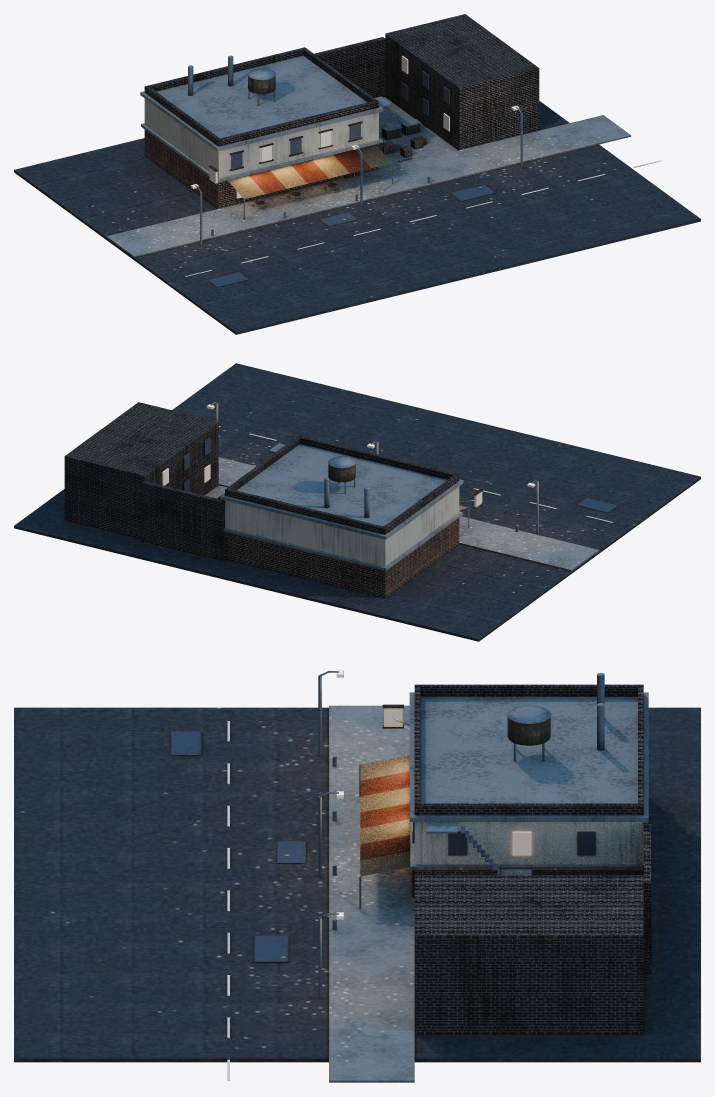
File: lower_bar.glb
The picture shows the model from 3 angles, top to bottom: view 1: azimuth 30°, elevation 25°; view 2: azimuth 150°, elevation 25°; view 3: azimuth 270°, elevation 25°; orthographic projection. The views are drawn at different scales.
Parts seen in each view (by area): view 1: site_ground, props_bar, props_alley, props_street; view 2: site_ground, props_bar, props_alley; view 3: site_ground, props_bar, props_alley, props_street.
Boxes of the visible parts, box(x1,y1,x2,y2) form: site_ground: box(14, 97, 700, 334); props_bar: box(140, 47, 393, 219); props_alley: box(314, 14, 539, 162); props_street: box(190, 105, 522, 244); site_ground: box(14, 363, 700, 641); props_bar: box(220, 435, 482, 597); props_alley: box(64, 402, 285, 560); site_ground: box(14, 705, 700, 1082); props_bar: box(359, 673, 648, 908); props_alley: box(414, 822, 650, 1034); props_street: box(318, 670, 392, 998).
Size of the model in its own units: 62 by 11.25 by 48.
4 materials, 4 textured.
